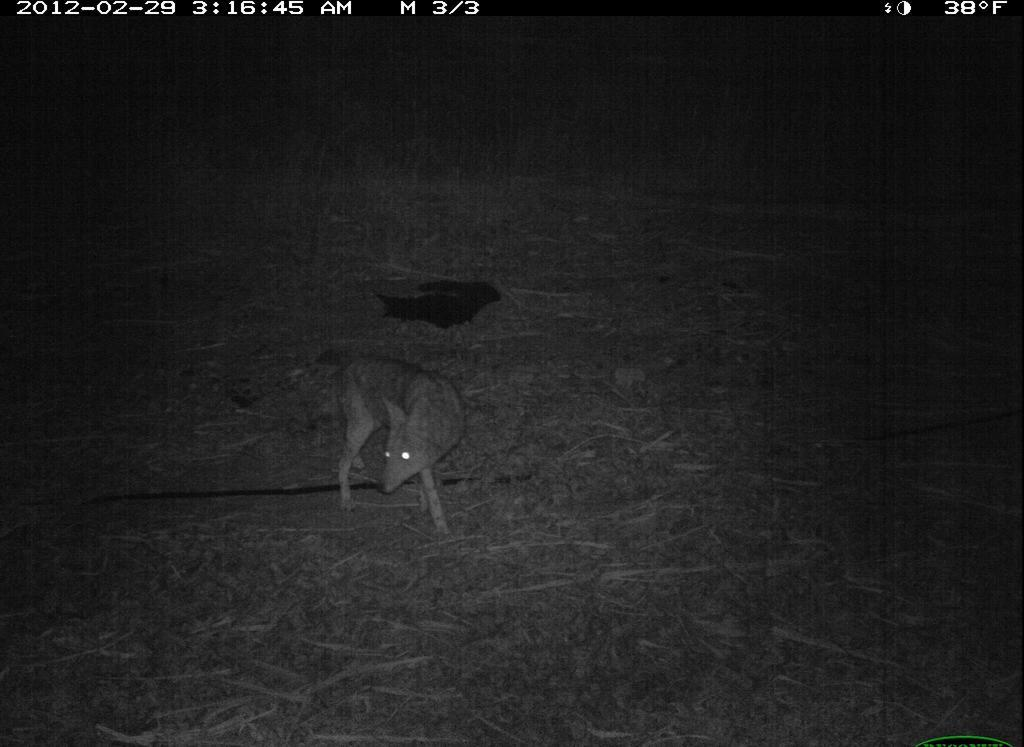coyote: (321, 342, 477, 550)
